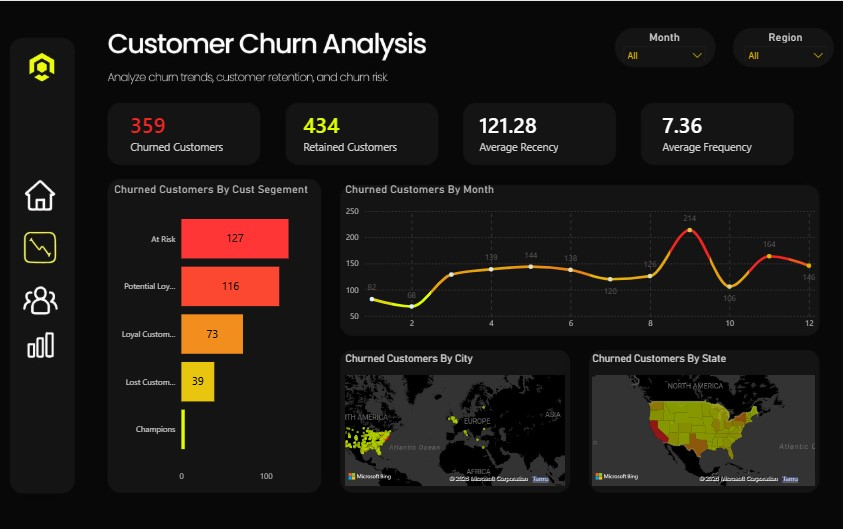

The page's visual inventory and layout, read from the dashboard file:
{"tool":"powerbi","page":{"name":"Customer Churn Analysis","canvas":[1300,800],"ordinal":1},"visuals":[{"type":"pageNavigator","box":[38.3,260,71.7,66.7],"z":0},{"type":"cardVisual","title":"Total Customers","fields":{"Data":["measure.Churned Customers"]},"box":[181.7,145,225,103.3],"z":1000},{"type":"cardVisual","fields":{"Data":["measure.Retained Customers"]},"box":[443.3,145,225,103.3],"z":2000},{"type":"cardVisual","fields":{"Data":["Avg(FinalChurn_PBI.recency)"]},"box":[708.3,145,236.7,103.3],"z":3000},{"type":"cardVisual","fields":{"Data":["Avg(FinalChurn_PBI.frequency)"]},"box":[983.3,145,225,103.3],"z":4000},{"type":"map","title":"Churned Customers By City","fields":{"Size":["measure.Churned Customers"],"Category":["FinalChurn_PBI.city"]},"box":[530.1,528.5,340.6,207.2],"z":5000},{"type":"filledMap","title":"Churned Customers By State","fields":{"Category":["FinalChurn_PBI.state"]},"box":[902.8,528.5,345,206.7],"z":6000},{"type":"clusteredBarChart","title":"Churned Customers By Cust Segement","fields":{"Category":["FinalChurn_PBI.customer_segment"],"Y":["measure.Churned Customers"]},"box":[181.7,273.3,311.7,461.7],"z":7000},{"type":"lineChart","title":"Churned Customers By Month","fields":{"Category":["FinalChurn_PBI.order_month"],"Y":["measure.Churned Customers"]},"box":[530,273.3,718.3,231.7],"z":8000},{"type":"slicer","title":"Month","fields":{"Values":["FinalChurn_PBI.order_month"]},"box":[945,43.3,143.3,48.3],"z":9000},{"type":"slicer","title":"Region","fields":{"Values":["FinalChurn_PBI.region"]},"box":[1126.7,43.3,143.3,48.3],"z":10000},{"type":"pageNavigator","box":[38.3,415,71.7,66.7],"z":11000},{"type":"pageNavigator","box":[38.3,481.7,71.7,76.7],"z":12000}]}

Visuals, with their boxes on the page's 1300x800 design canvas (x1, y1, x2, y2). These are canvas units, not pixel positions in the 843x529 screenshot, which may show the page scaled, cropped or inside an application window:
pageNavigator: [x1=38, y1=260, x2=110, y2=327]
"Total Customers" cardVisual: [x1=182, y1=145, x2=407, y2=248]
cardVisual - measure.Retained Customers: [x1=443, y1=145, x2=668, y2=248]
cardVisual - Avg(FinalChurn_PBI.recency): [x1=708, y1=145, x2=945, y2=248]
cardVisual - Avg(FinalChurn_PBI.frequency): [x1=983, y1=145, x2=1208, y2=248]
"Churned Customers By City" map: [x1=530, y1=528, x2=871, y2=736]
"Churned Customers By State" filledMap: [x1=903, y1=528, x2=1248, y2=735]
"Churned Customers By Cust Segement" clusteredBarChart: [x1=182, y1=273, x2=493, y2=735]
"Churned Customers By Month" lineChart: [x1=530, y1=273, x2=1248, y2=505]
"Month" slicer: [x1=945, y1=43, x2=1088, y2=92]
"Region" slicer: [x1=1127, y1=43, x2=1270, y2=92]
pageNavigator: [x1=38, y1=415, x2=110, y2=482]
pageNavigator: [x1=38, y1=482, x2=110, y2=558]
